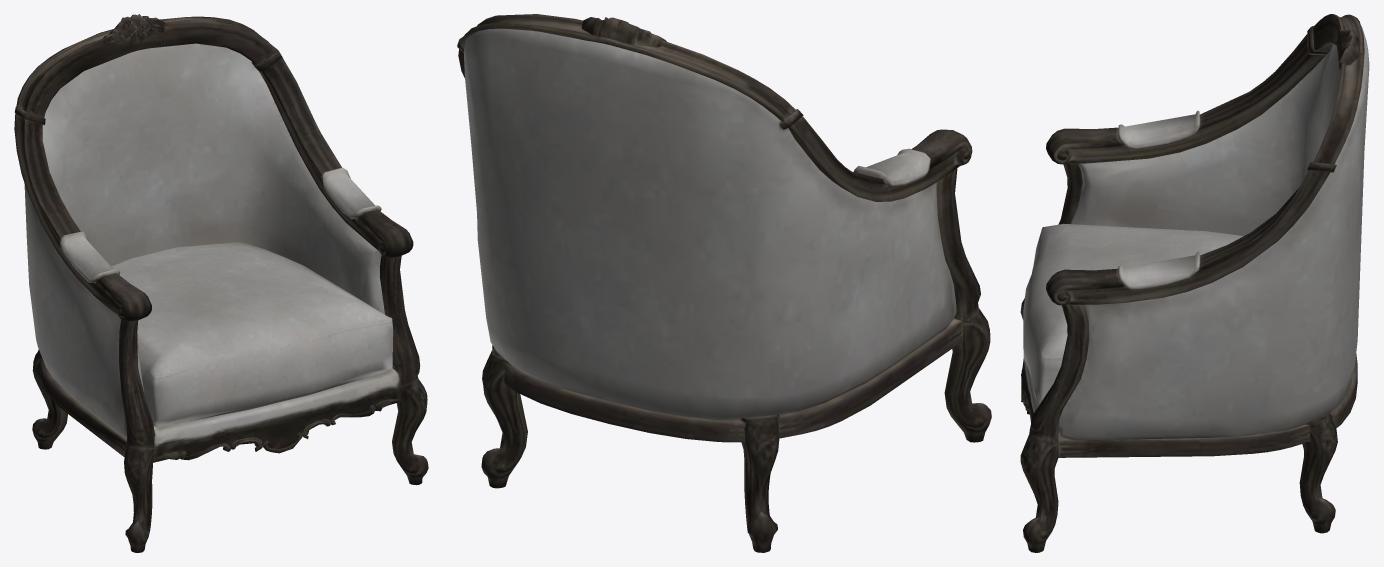
The model's file is ArmChair_01.glb.
The picture shows the model from 3 angles, left to right: view 1: azimuth 30°, elevation 25°; view 2: azimuth 150°, elevation 25°; view 3: azimuth 270°, elevation 25°; orthographic projection. The views are drawn at different scales.
Visible parts, largest first — view 1: ArmChair_01; view 2: ArmChair_01; view 3: ArmChair_01.
Part boxes in pixels (<box>): ArmChair_01: <box>14,14,428,552</box>; ArmChair_01: <box>457,14,991,552</box>; ArmChair_01: <box>1020,14,1369,552</box>.
Bounding box in the file's own units: 0.8483 × 1.07 × 0.7657.
1 material, 1 textured.
